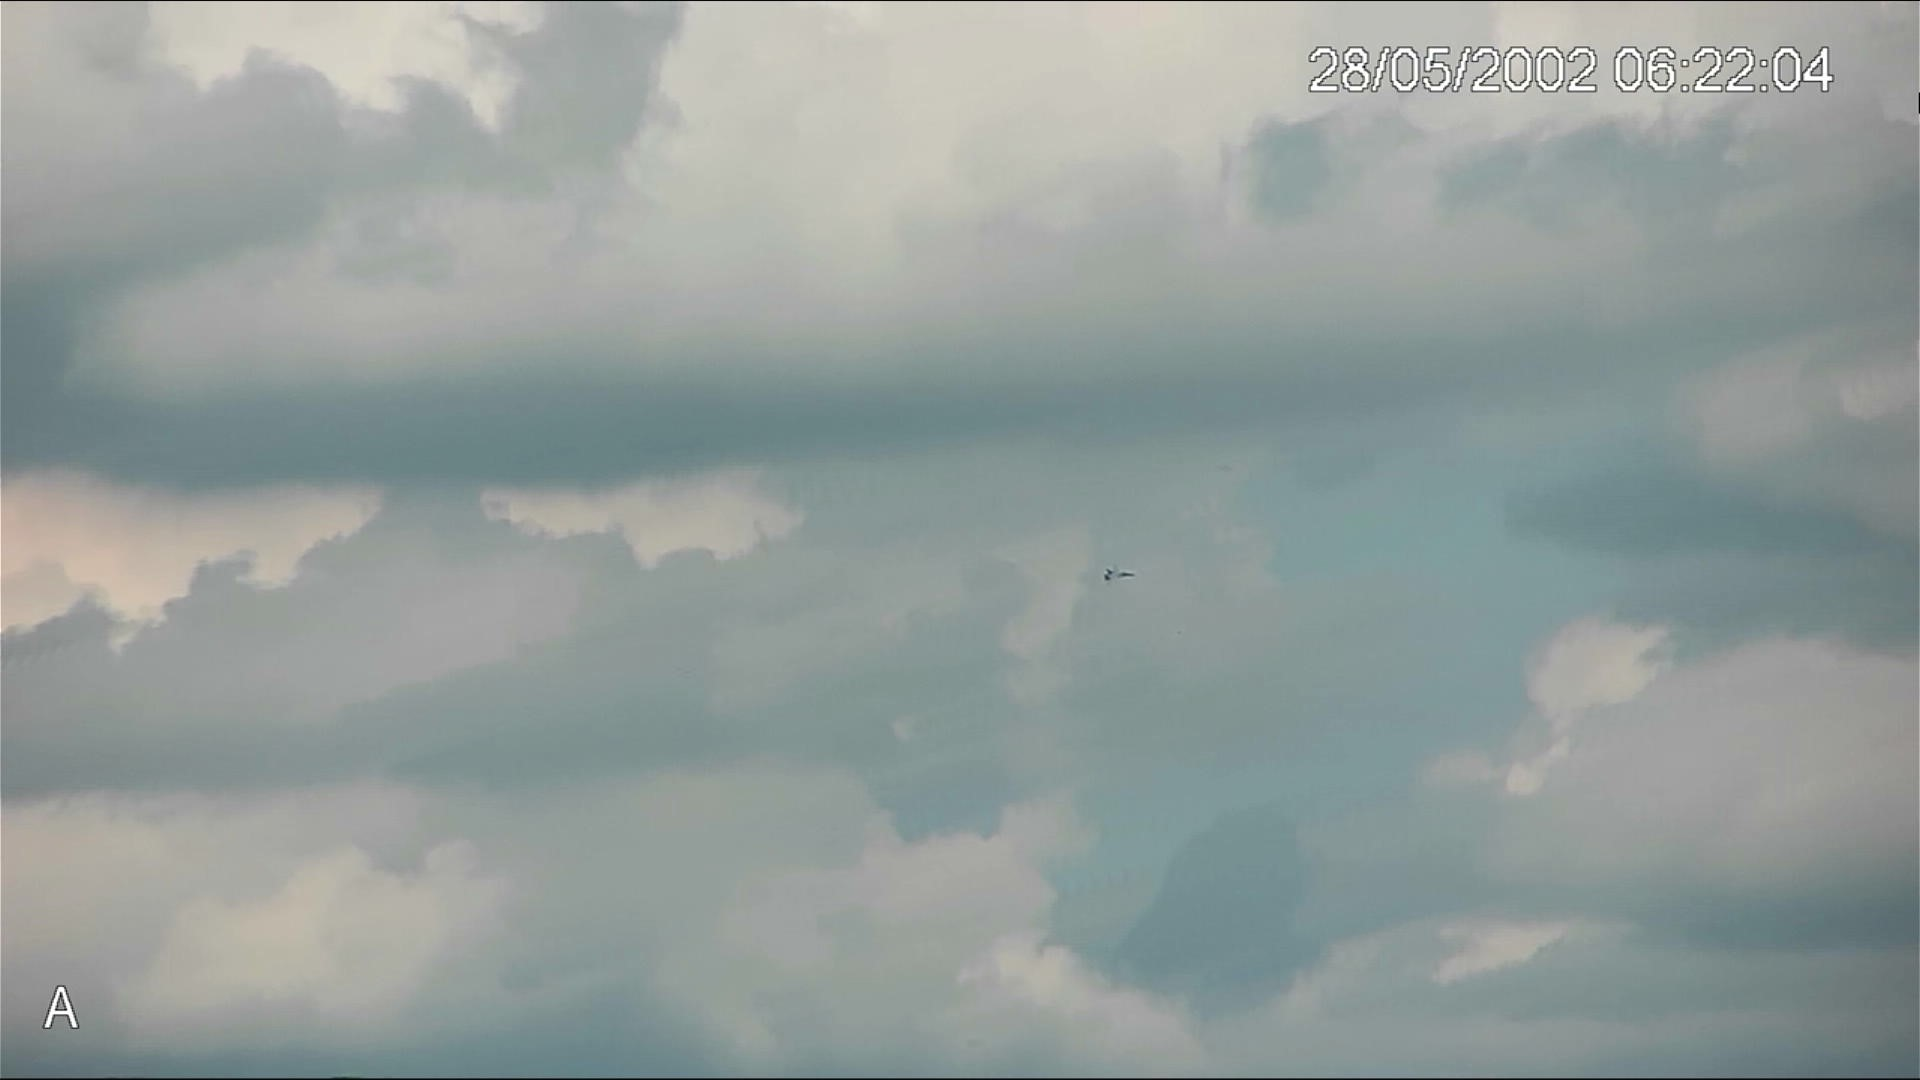SU_30: (1104, 564, 1133, 583)
